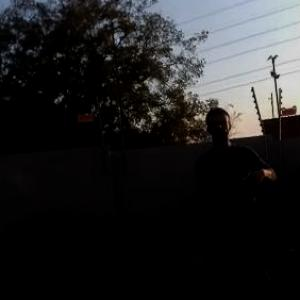follow: (189, 100, 281, 299)
